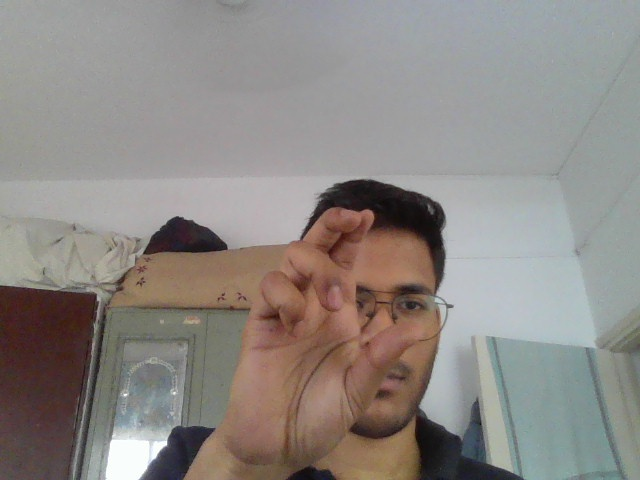no: (218, 191, 456, 463)
